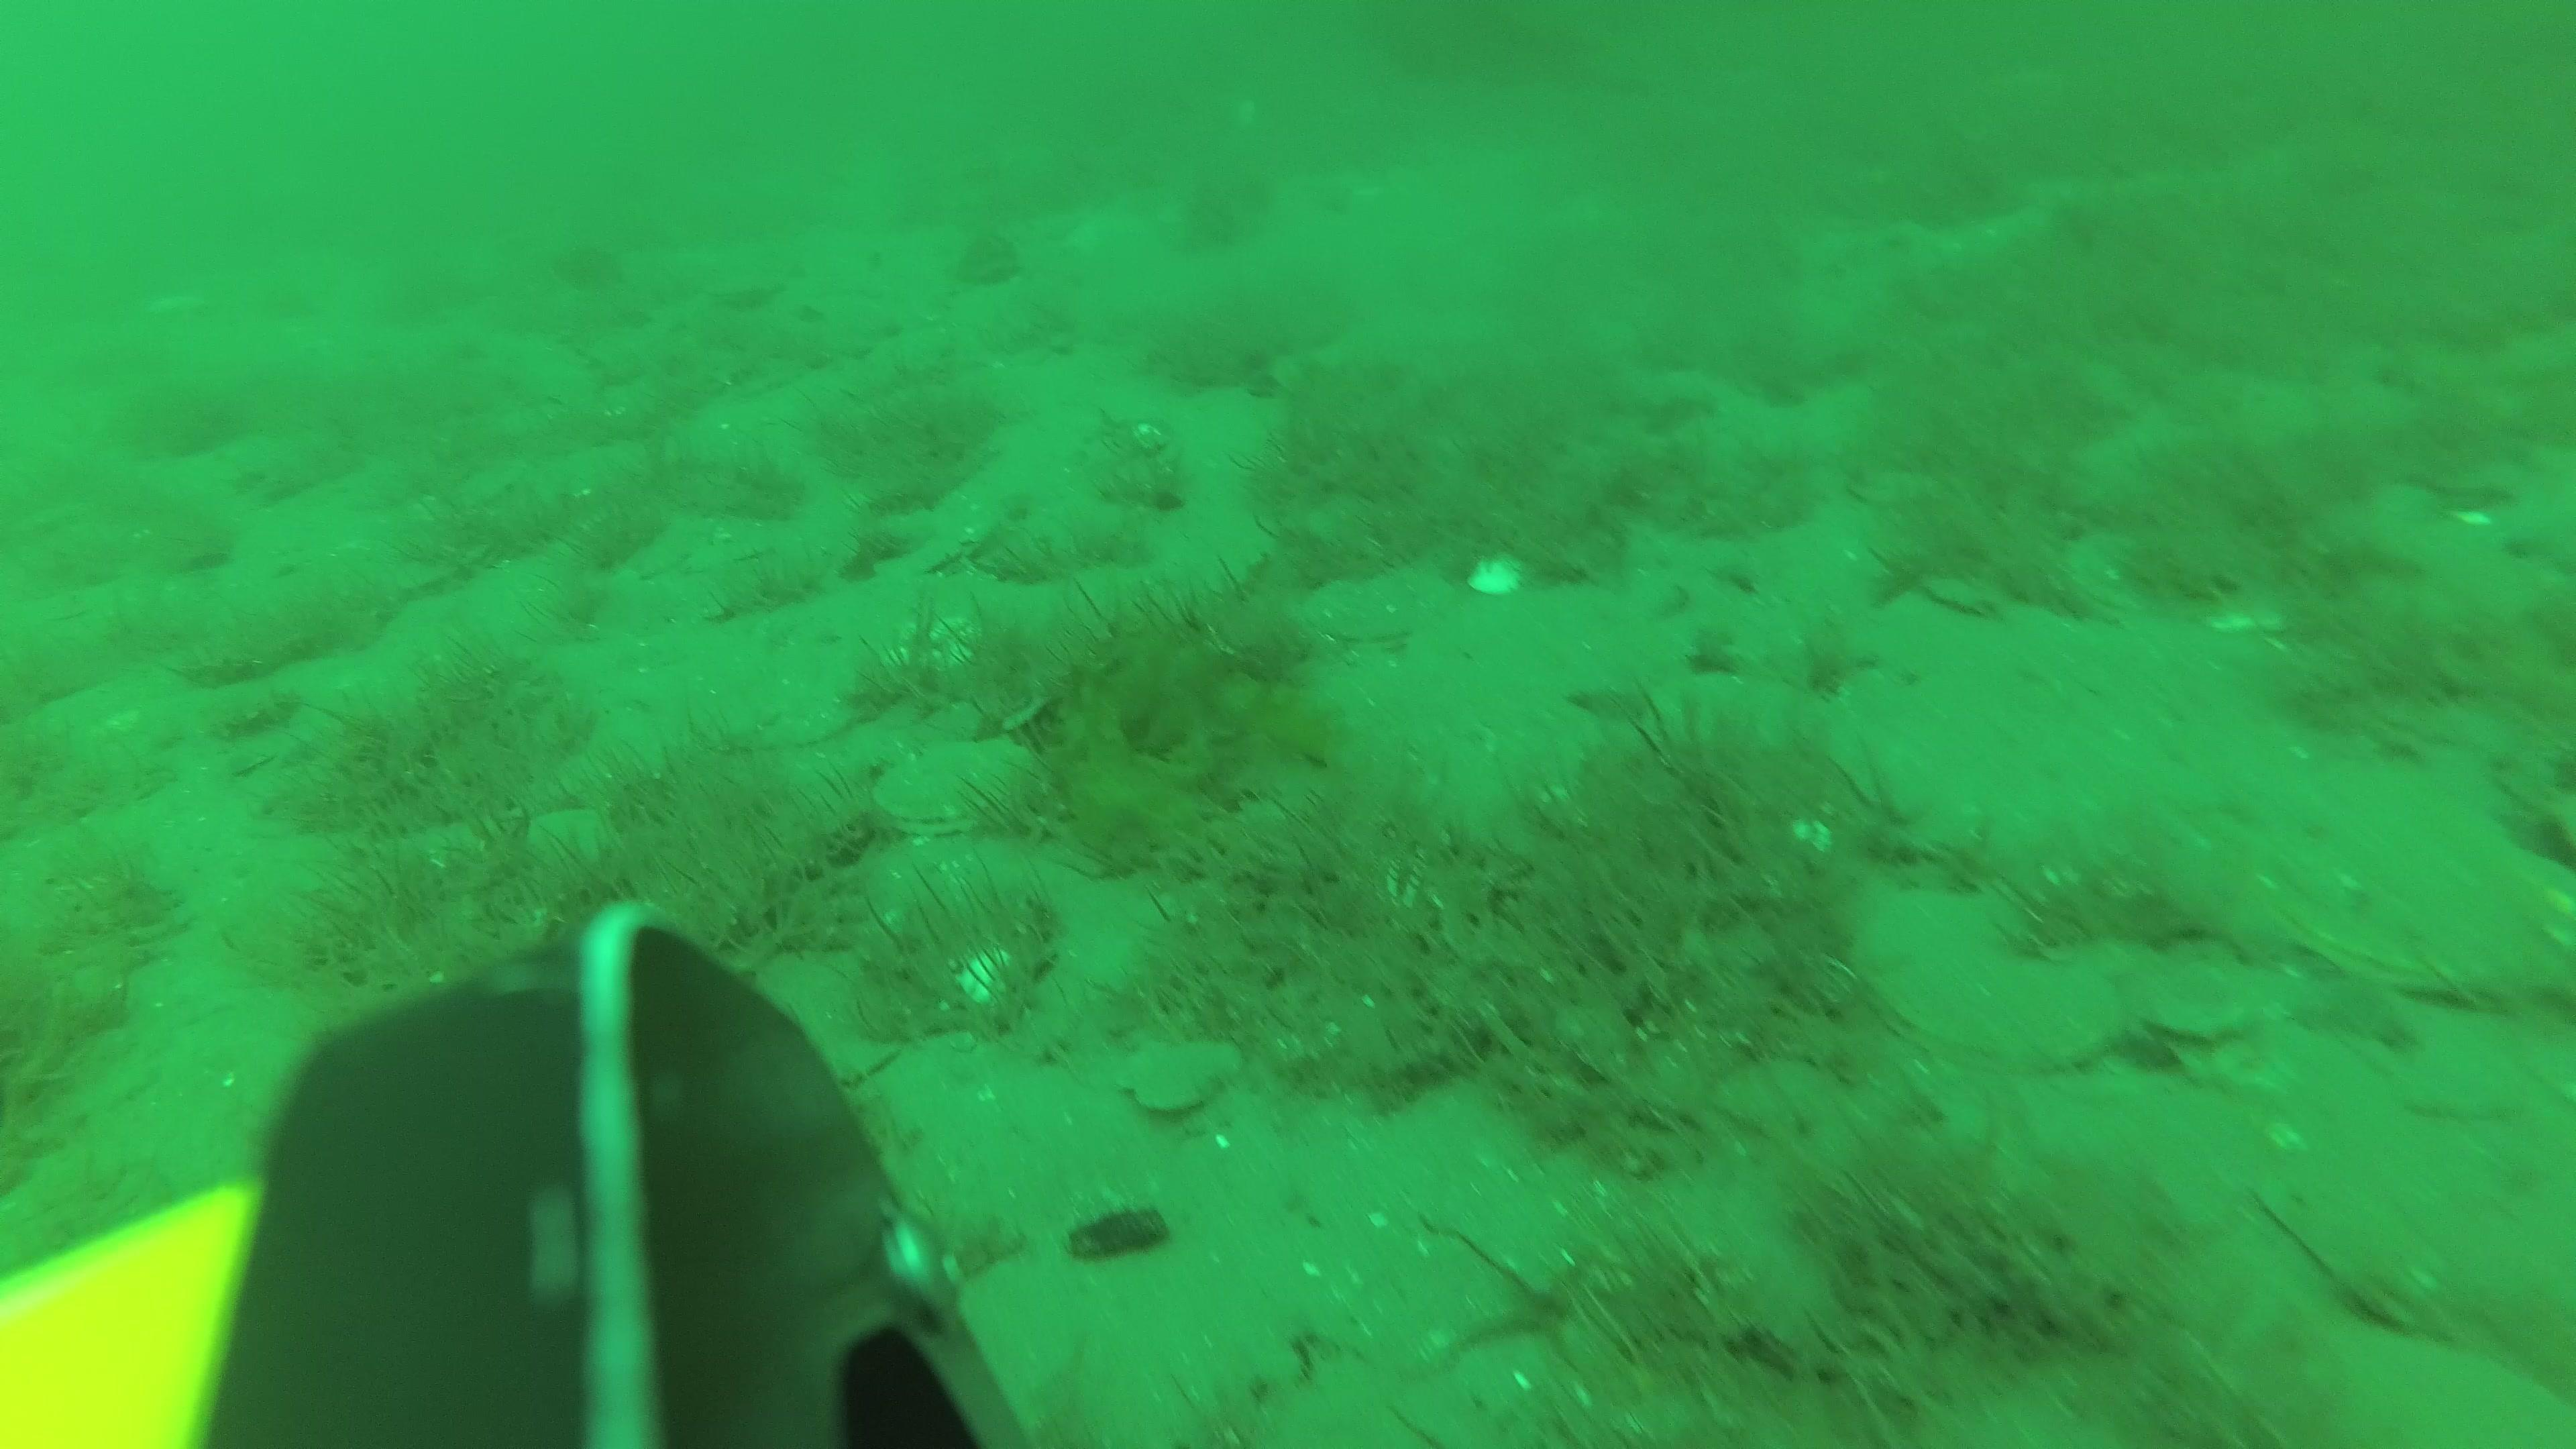scallop: (2277, 755, 2576, 993), (1854, 885, 2125, 1065), (2247, 1318, 2576, 1449), (883, 743, 1035, 830), (1309, 573, 1447, 648), (1120, 1035, 1240, 1115)
